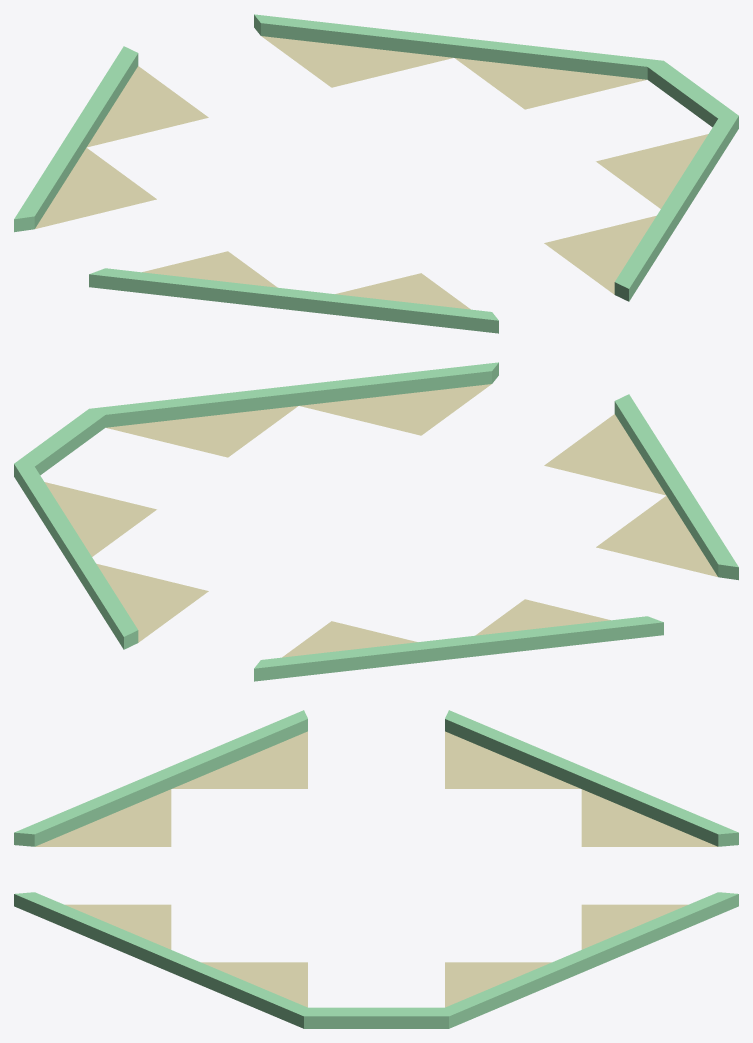
Rendered from castle_top4.FBX.
3 views of the same model, one above another, from view 1: azimuth 30°, elevation 25°; view 2: azimuth 150°, elevation 25°; view 3: azimuth 270°, elevation 25° (orthographic). The views are drawn at different scales.
Visible parts, largest first — view 1: castle_top4; view 2: castle_top4; view 3: castle_top4.
Part boxes in pixels (left/top/right/bottom): castle_top4: left=14, top=14, right=738, bottom=333; castle_top4: left=14, top=362, right=738, bottom=681; castle_top4: left=14, top=710, right=738, bottom=1028.
Size of the model in its own units: 5303 by 101 by 5303.
